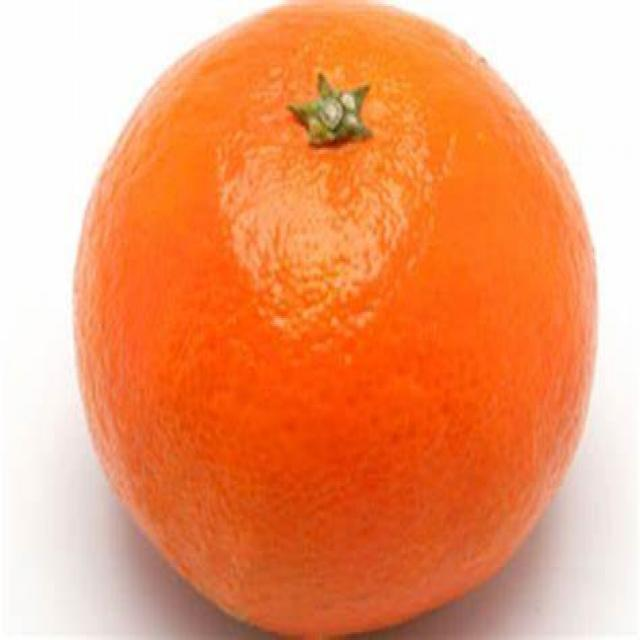Orange: (73, 0, 598, 640)
